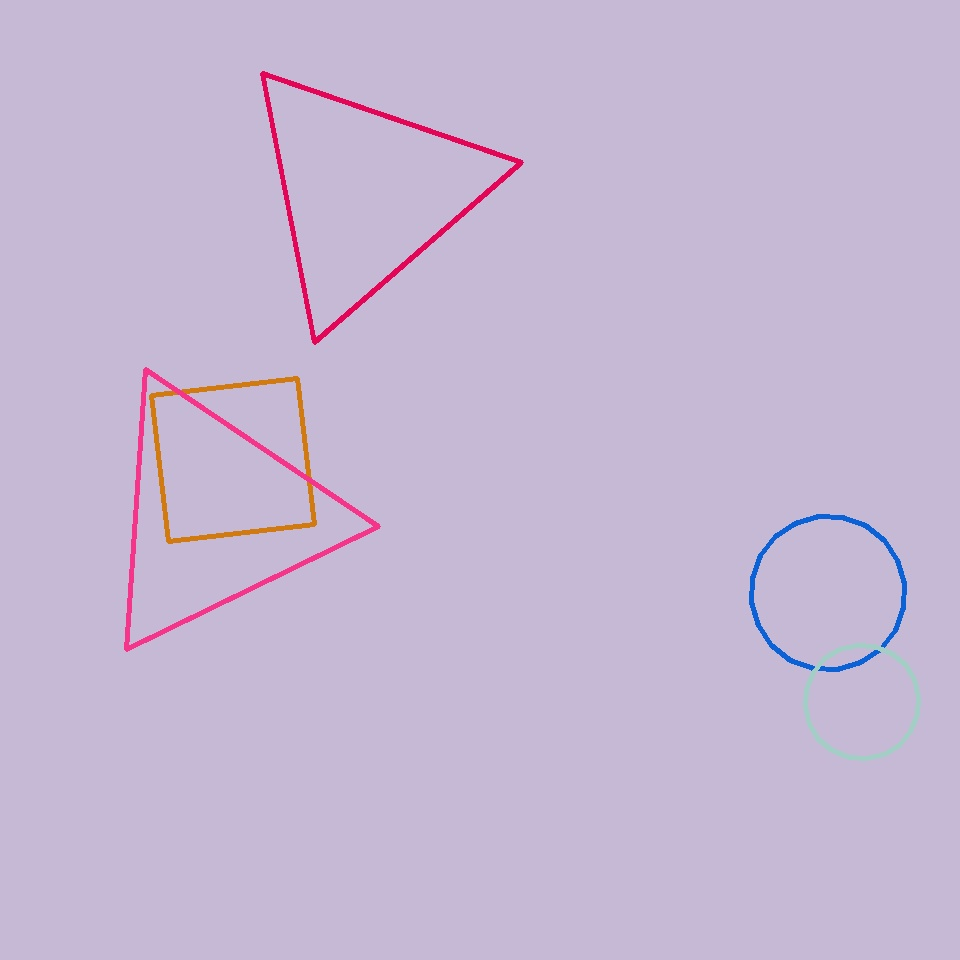circle: (91, 375, 343, 655), (236, 59, 496, 328)
square: (152, 378, 314, 542)
triangle: (752, 516, 905, 670), (806, 646, 918, 758)
